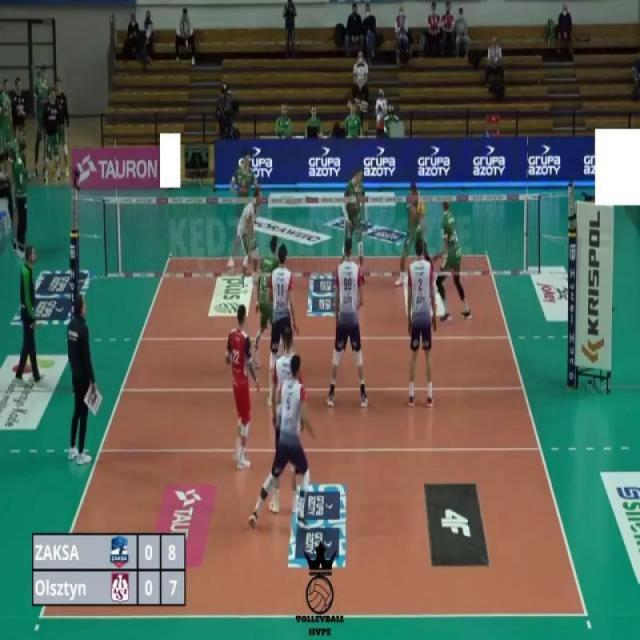volleyball: (416, 200, 427, 220)
